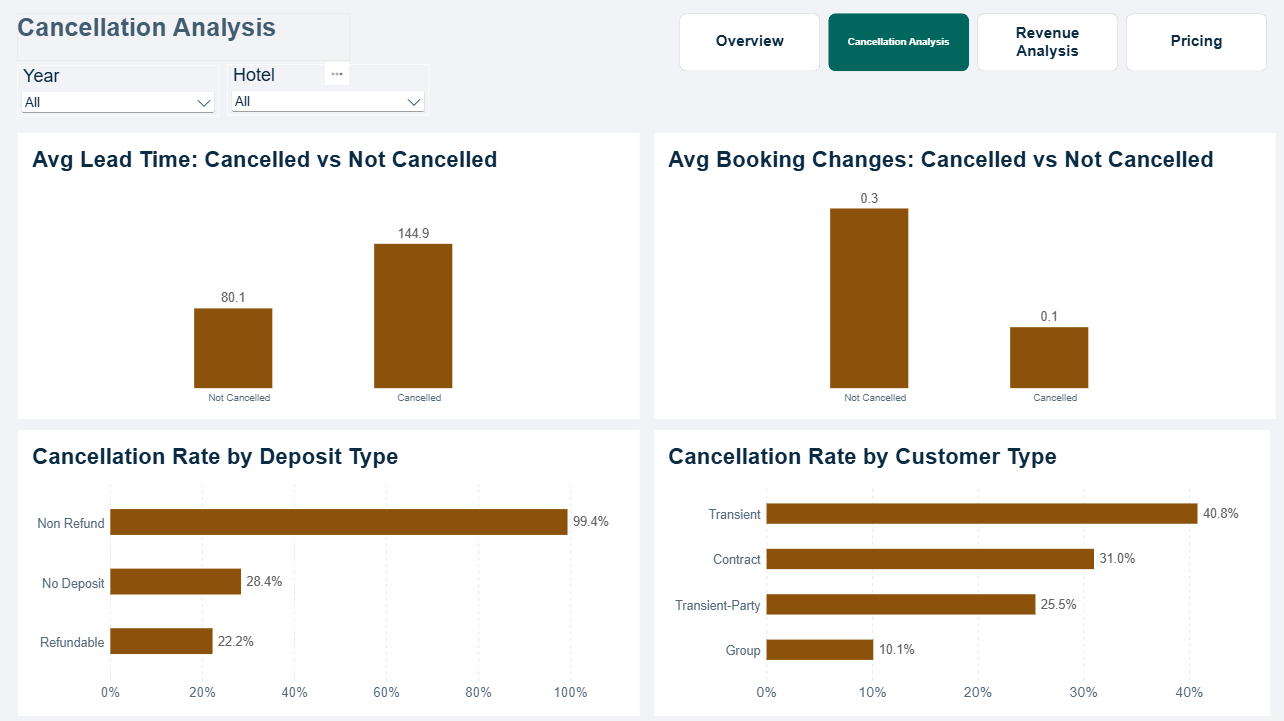

What the dashboard file says about the page in this screenshot:
{"tool":"powerbi","page":{"name":"Cancellation Analysis","canvas":[1920,1080],"ordinal":1},"visuals":[{"type":"clusteredBarChart","title":"Cancellation Rate by Deposit Type","fields":{"Category":["vw_bookings_detail.deposit_type"],"Y":["_Measures.Cancellation Rate"]},"box":[39.6,637.4,922.4,423.6],"z":0},{"type":"barChart","title":"Cancellation Rate by Customer Type","fields":{"Category":["vw_bookings_detail.customer_type"],"Y":["_Measures.Cancellation Rate"]},"box":[983.8,637.4,914.5,423.6],"z":1000},{"type":"textbox","box":[39,18.7,493.6,71.2],"z":2000},{"type":"slicer","fields":{"Values":["DateTable.Year"]},"box":[39.1,96.7,299.9,75.8],"z":3000},{"type":"slicer","fields":{"Values":["vw_bookings_detail.hotel"]},"box":[349.8,94.7,299.9,75.8],"z":4000},{"type":"pageNavigator","box":[1018.6,18.5,878.7,90.5],"z":5000},{"type":"clusteredColumnChart","title":"Avg Lead Time: Cancelled vs Not Cancelled","fields":{"Category":["vw_bookings_detail.Booking Status"],"Y":["_Measures.Average Lead Time"]},"box":[39.6,197.9,922.4,423.6],"z":6000},{"type":"clusteredColumnChart","title":"Avg Booking Changes: Cancelled vs Not Cancelled","fields":{"Category":["vw_bookings_detail.Booking Status"],"Y":["_Measures.Average Booking Changes"]},"box":[983.8,197.9,922.4,423.6],"z":7000}]}

Visuals, with their boxes in screenshot pixels (x1, y1, x2, y2), scaled from the page's 1920x1080 canvas onto the 1284x721 screenshot:
"Cancellation Rate by Deposit Type" clusteredBarChart: 26,426,643,708
"Cancellation Rate by Customer Type" barChart: 658,426,1269,708
textbox: 26,12,356,60
slicer - DateTable.Year: 26,65,227,115
slicer - vw_bookings_detail.hotel: 234,63,434,114
pageNavigator: 681,12,1269,73
"Avg Lead Time: Cancelled vs Not Cancelled" clusteredColumnChart: 26,132,643,415
"Avg Booking Changes: Cancelled vs Not Cancelled" clusteredColumnChart: 658,132,1275,415
